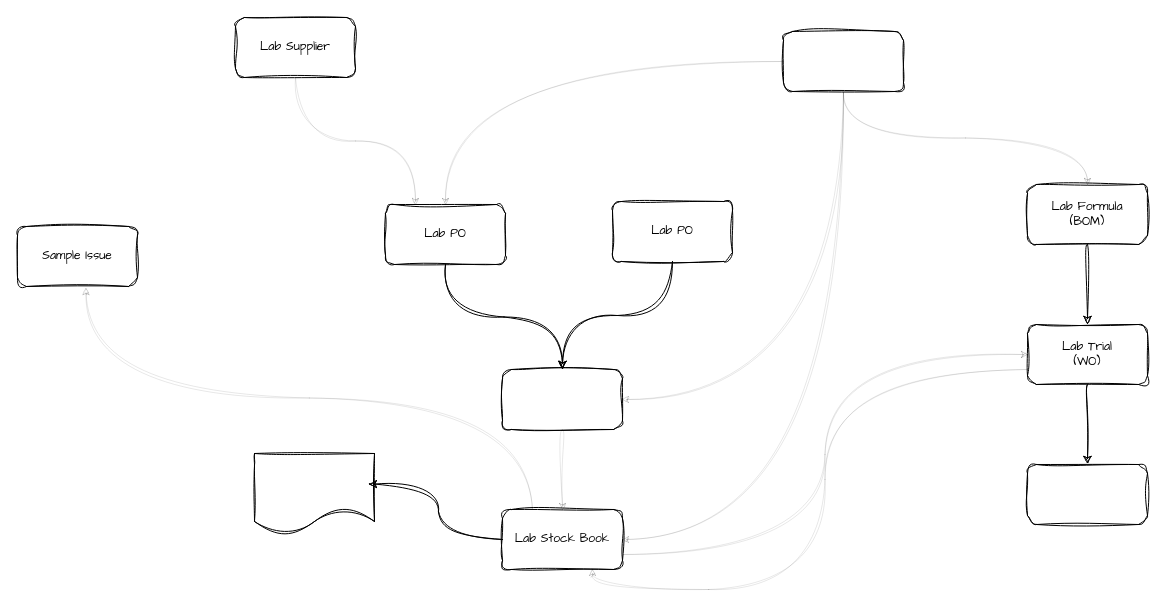
Some shapes in this 1165 by 607 pixel diagram are drawn without their labels. Each missing label, with the centre of its shape:
Lab Item: the point at 843,61
Lab Receipts: the point at 562,399
Lab Stock: the point at 314,493
Start > Consume > Produce: the point at 1087,494
